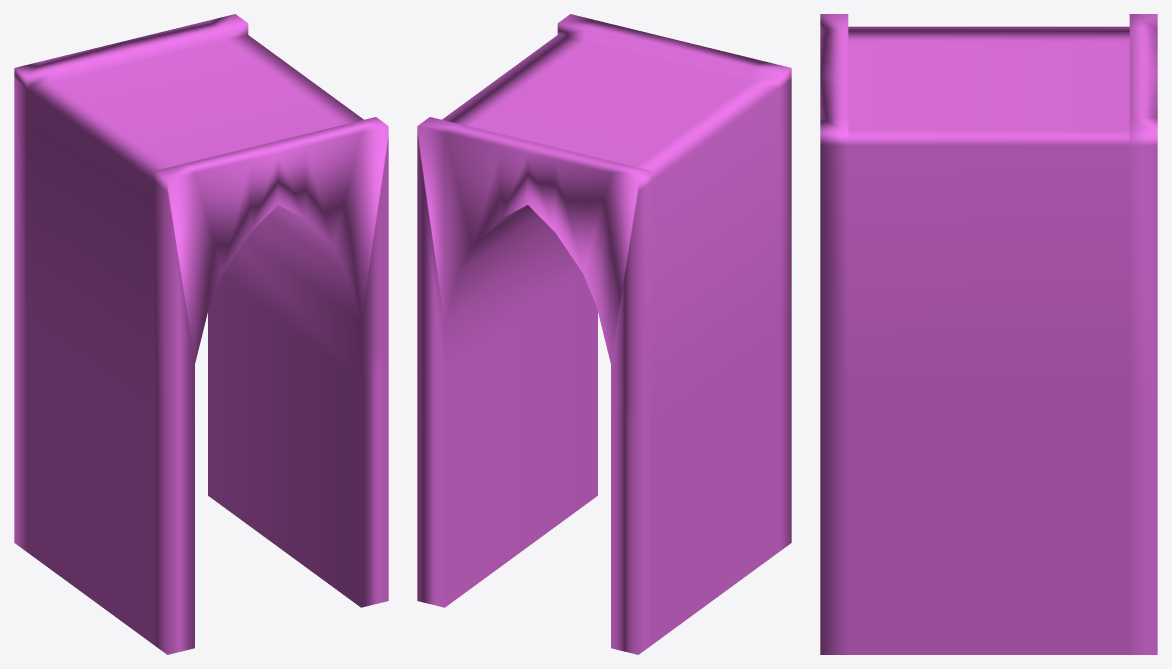
File: RD_Arch_x1_Tall.fbx
3 renders of one model, left to right at view 1: azimuth 30°, elevation 25°; view 2: azimuth 150°, elevation 25°; view 3: azimuth 270°, elevation 25°, orthographic. The views are drawn at different scales.
Visible parts, largest first — view 1: Mesh; view 2: Mesh; view 3: Mesh.
Part boxes in pixels (x1,y1,x2,y2): Mesh: (14,14,388,654); Mesh: (417,14,791,654); Mesh: (820,14,1157,654).
Size of the model in its own units: 400 by 820 by 480.
